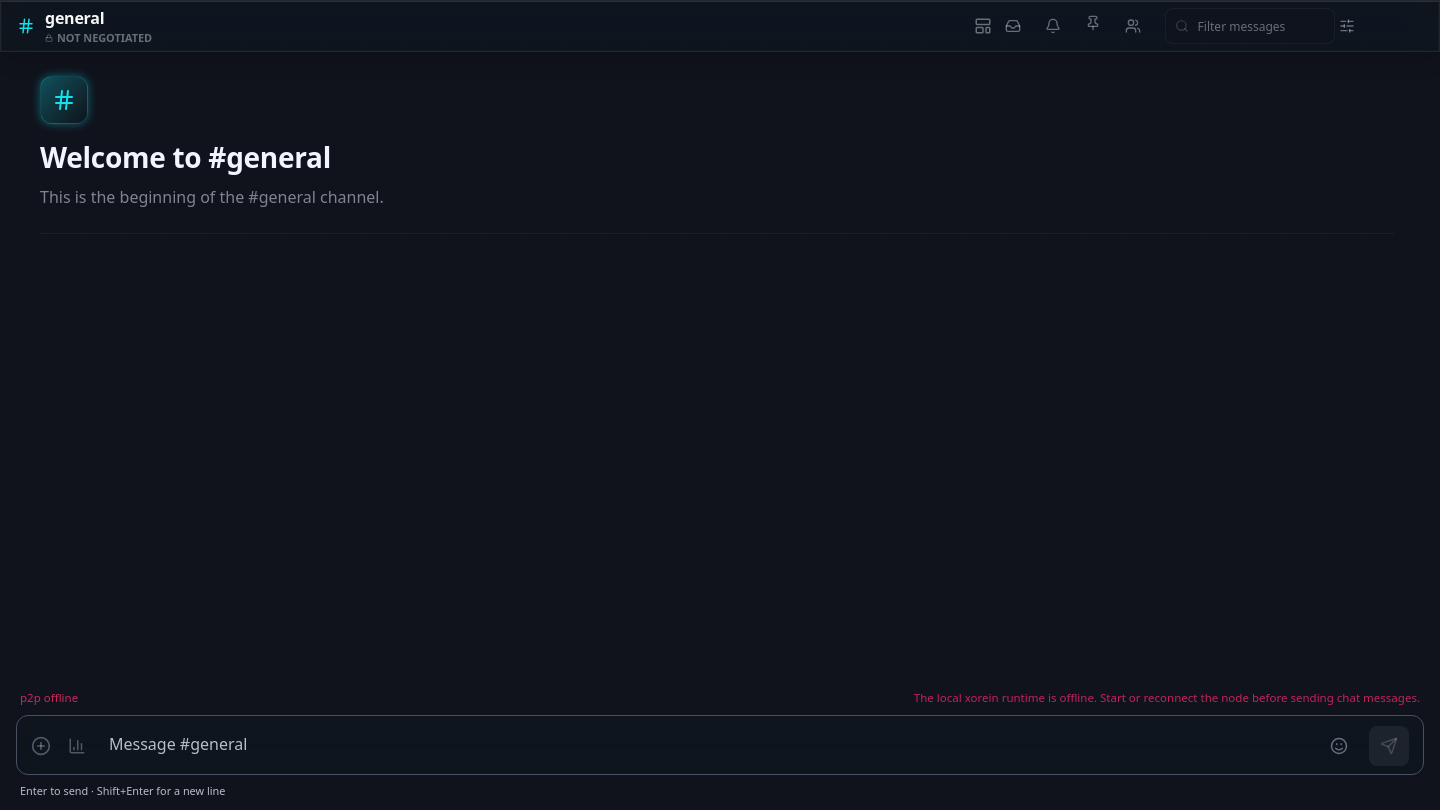
Test: ChatArea › does not persist unsupported slash command messages
In the text box named "Message Input": coordinates (705, 745) [101,722,1309,768], type "/ghost waves"
Then press Enter
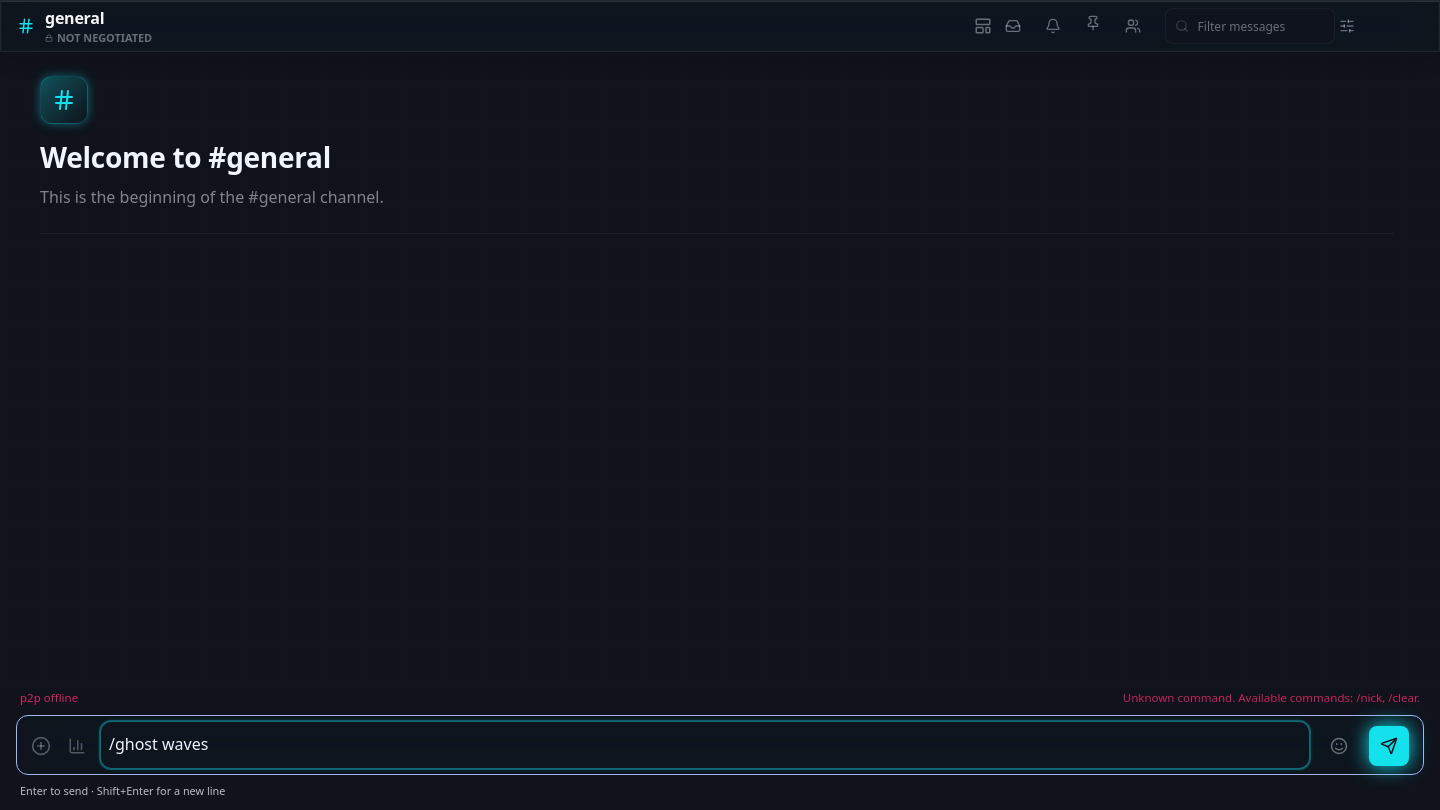
Expected: the text "Unknown command. Available commands: /nick, /clear." is shown, [1123,690,1420,707]
